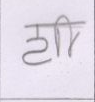i_matra: (51, 14, 68, 59)
